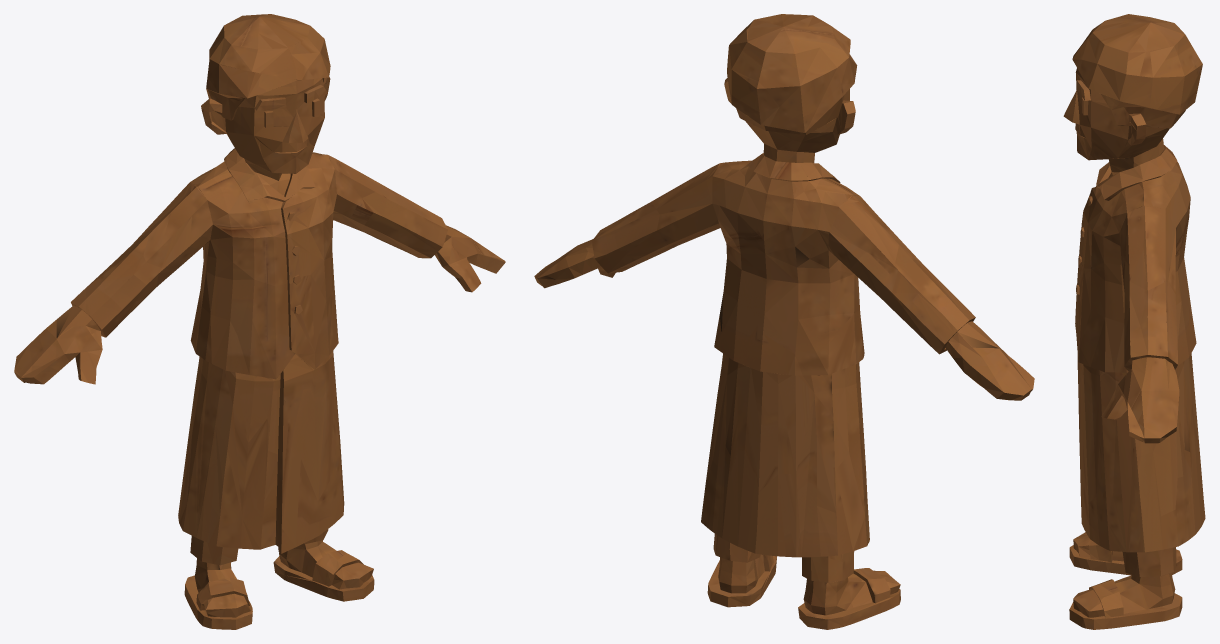
3 views of the same model, side by side, from view 1: azimuth 30°, elevation 25°; view 2: azimuth 150°, elevation 25°; view 3: azimuth 270°, elevation 25° (orthographic). The views are drawn at different scales.
Parts seen in each view (by area): view 1: texture_pbr_v128; view 2: texture_pbr_v128; view 3: texture_pbr_v128.
Part boxes in pixels (box(x1,y1,x2,y2)): texture_pbr_v128: box(14, 14, 505, 629); texture_pbr_v128: box(534, 14, 1034, 629); texture_pbr_v128: box(1063, 14, 1205, 629).
Size of the model in its own units: 1.01 by 1.14 by 0.2592.
